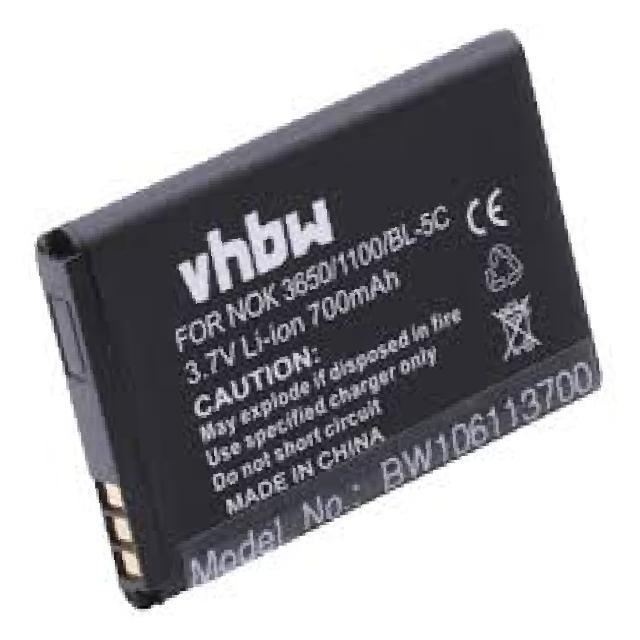Battery: (14, 9, 629, 628)
